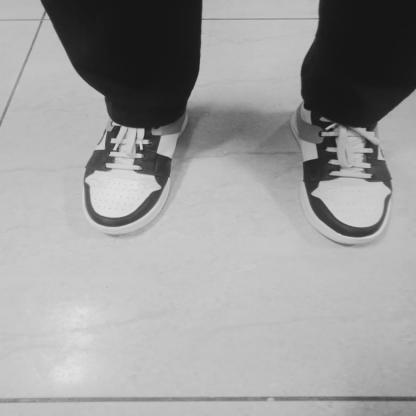ankle: (311, 117, 317, 120), (162, 124, 166, 128)
heel: (299, 108, 306, 112), (180, 117, 185, 121)
left_foot: (292, 102, 395, 245)
pinky: (379, 206, 385, 212), (90, 208, 96, 213)
right_foot: (86, 106, 191, 237)
toe: (142, 208, 148, 212), (319, 210, 327, 213)
